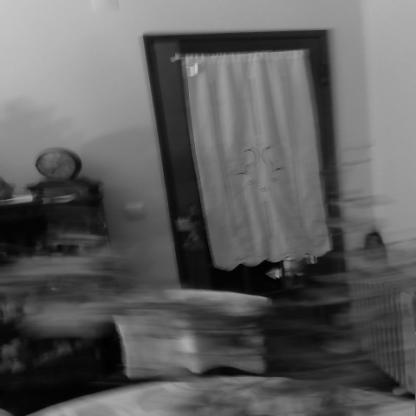closed: (140, 19, 346, 390)
